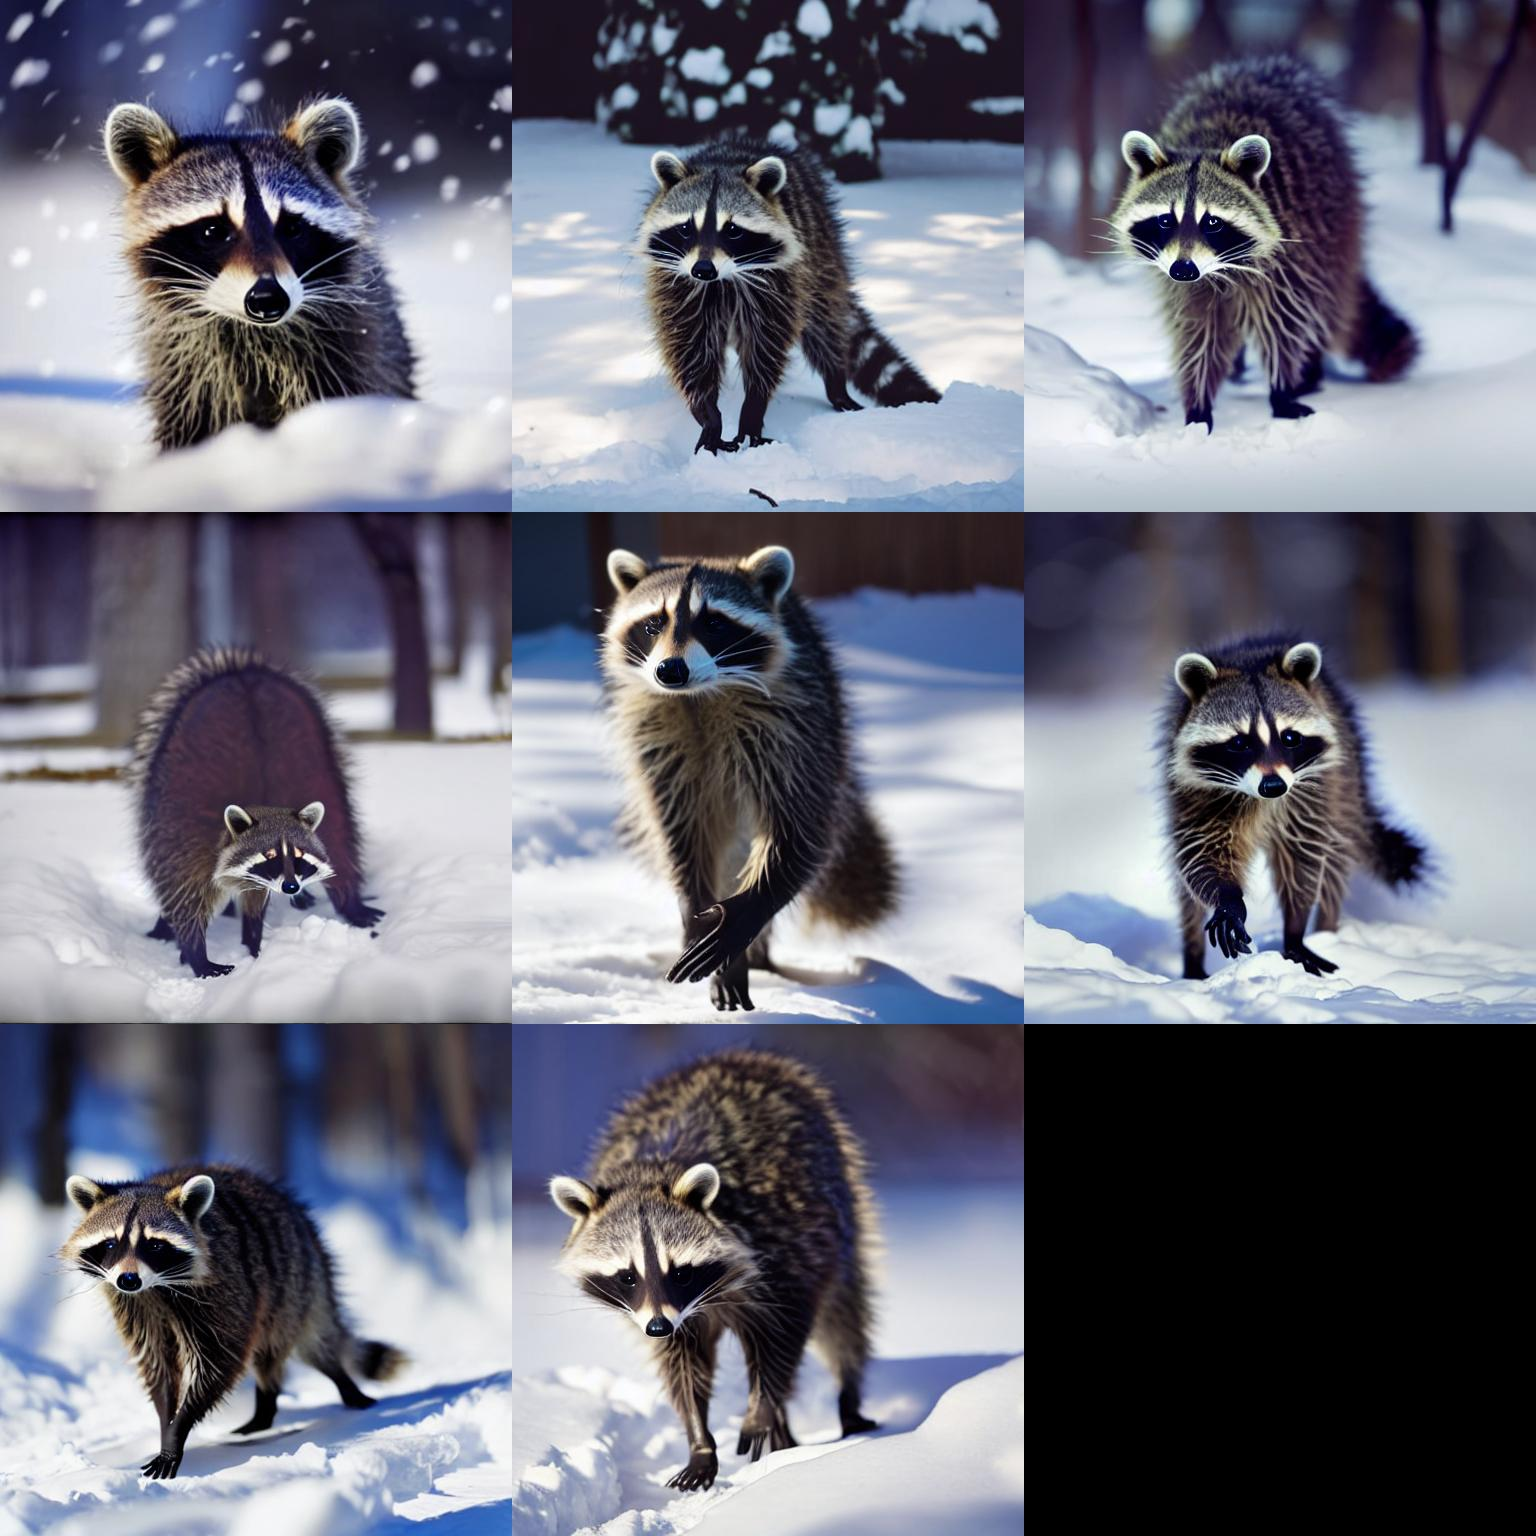raccoon: (540, 1048, 916, 1447), (582, 537, 913, 975), (1103, 45, 1432, 422), (84, 75, 430, 432), (623, 115, 940, 460), (42, 1145, 405, 1435), (1138, 617, 1435, 965), (105, 637, 390, 926)
